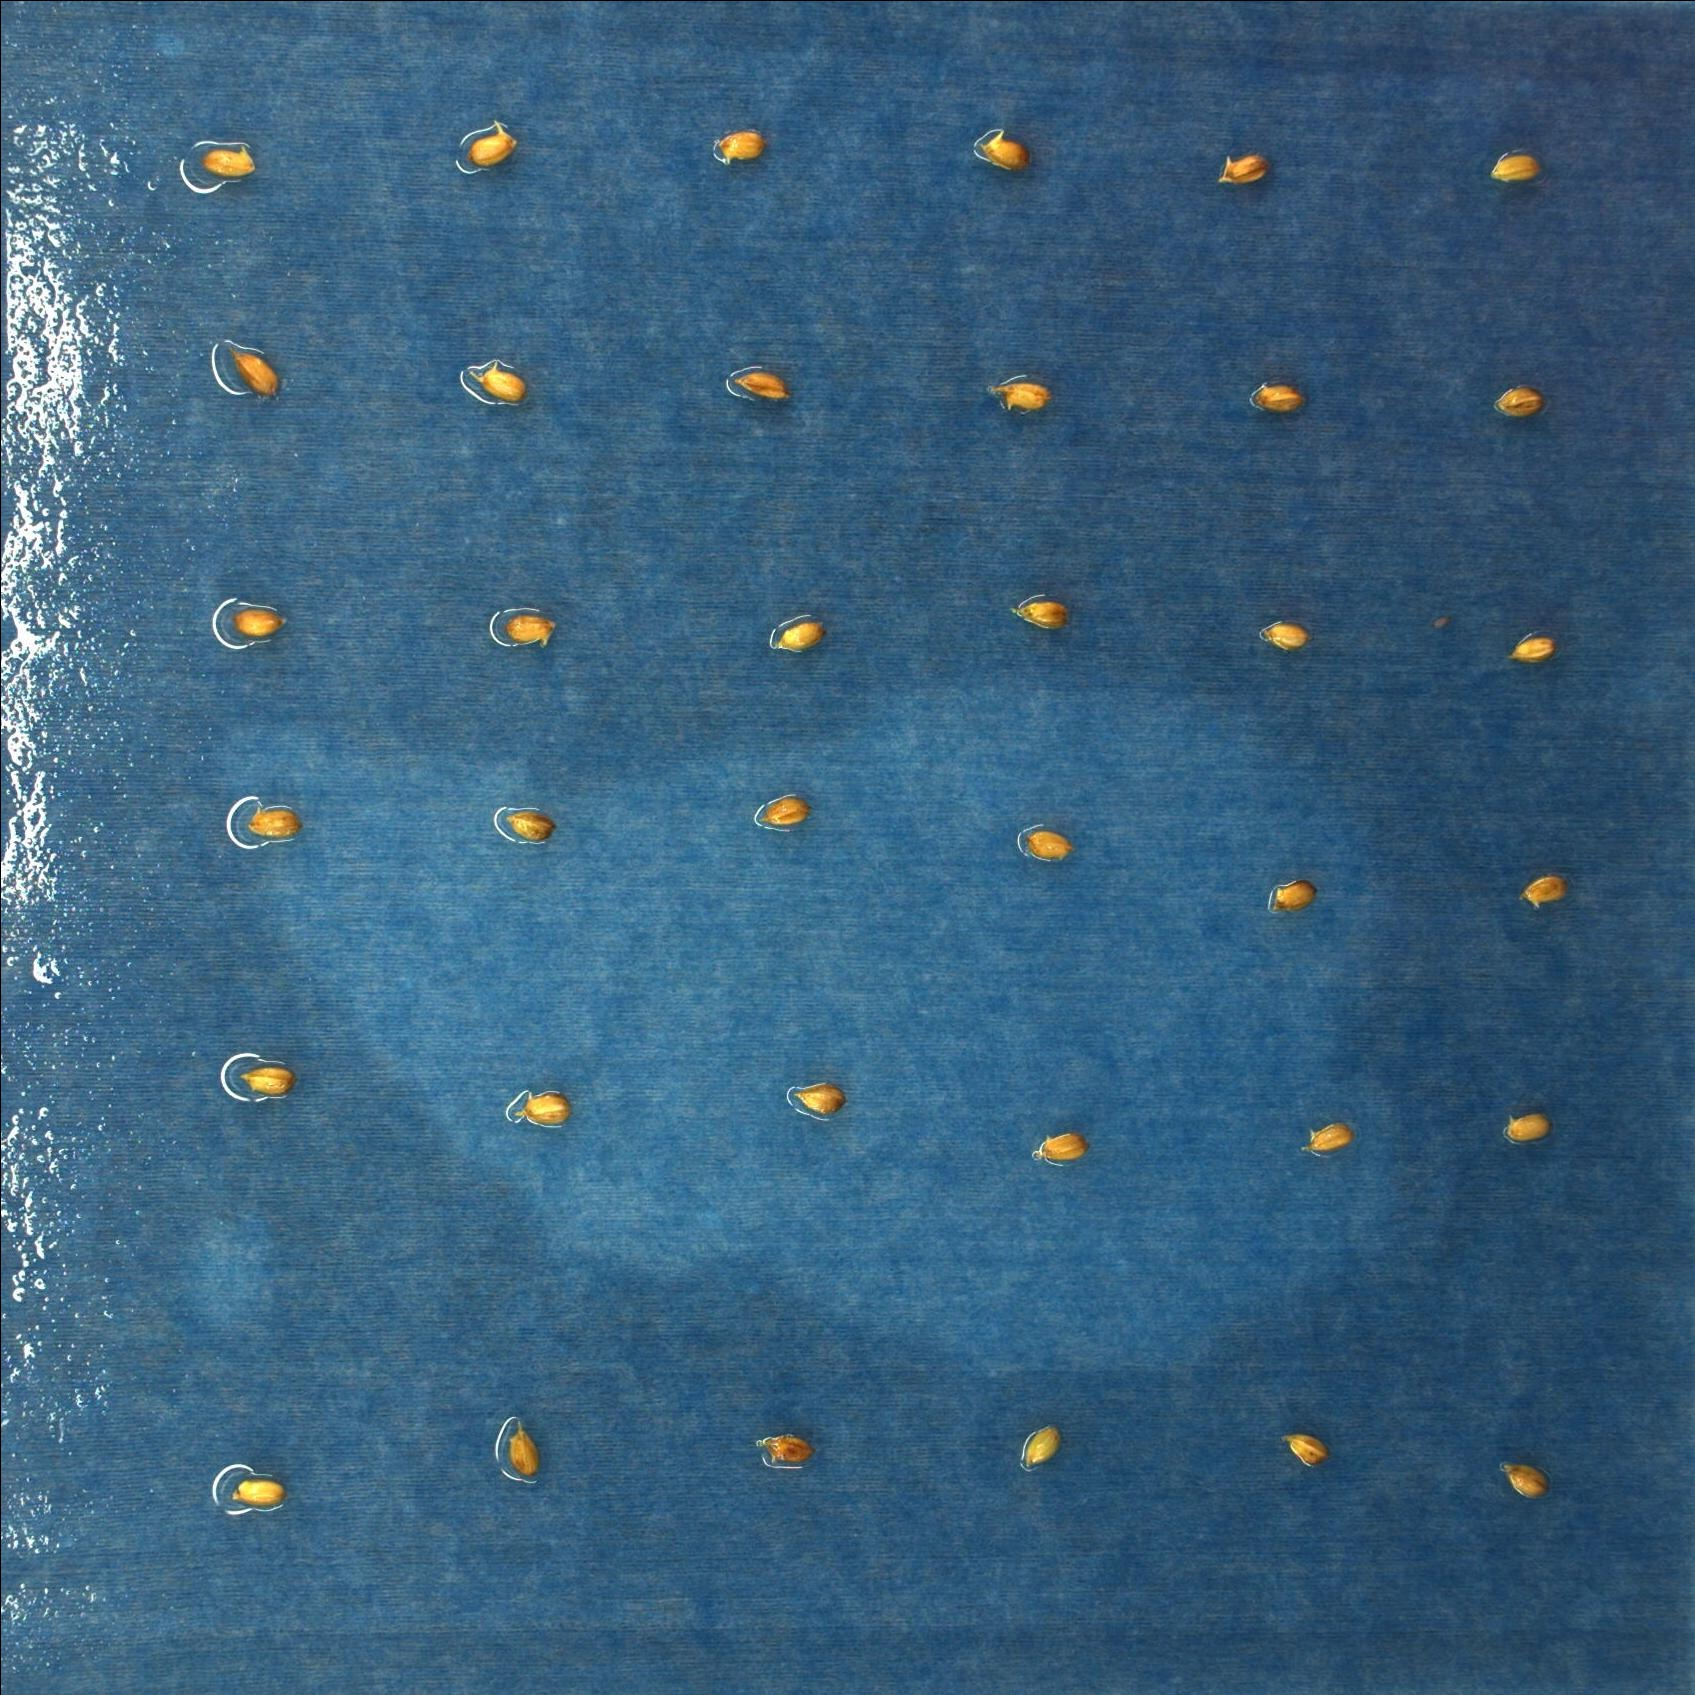not sprout: (217, 345, 282, 394), (785, 1080, 851, 1121), (469, 363, 529, 404), (756, 790, 810, 834), (1012, 594, 1073, 633), (500, 802, 556, 844), (1017, 1423, 1062, 1473), (1499, 1102, 1551, 1146), (1212, 151, 1274, 186), (1489, 147, 1544, 186), (736, 365, 796, 400), (231, 601, 292, 636), (1038, 1125, 1090, 1167), (1499, 1458, 1551, 1499), (511, 1090, 570, 1125), (993, 379, 1054, 413), (237, 1065, 295, 1101), (1250, 382, 1312, 414), (983, 129, 1031, 171), (511, 1419, 542, 1482), (1277, 1433, 1335, 1467), (1307, 1118, 1355, 1158), (1014, 826, 1068, 861), (470, 121, 515, 163), (765, 618, 823, 650), (247, 806, 304, 838), (1263, 879, 1319, 911), (205, 144, 255, 180), (1516, 875, 1566, 911), (719, 130, 770, 165), (762, 1434, 818, 1464), (231, 1476, 287, 1506), (1499, 380, 1548, 414), (1260, 618, 1310, 646), (506, 613, 553, 643), (1504, 636, 1555, 663)
